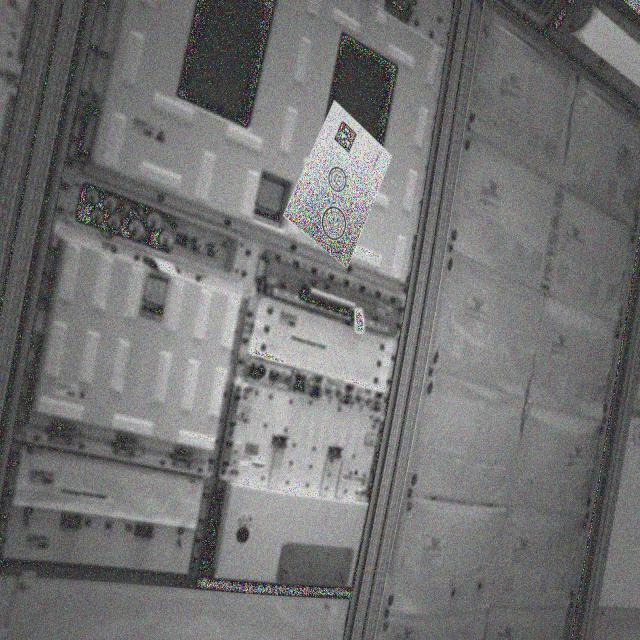coin: (319, 205, 351, 247), (322, 164, 357, 198)
